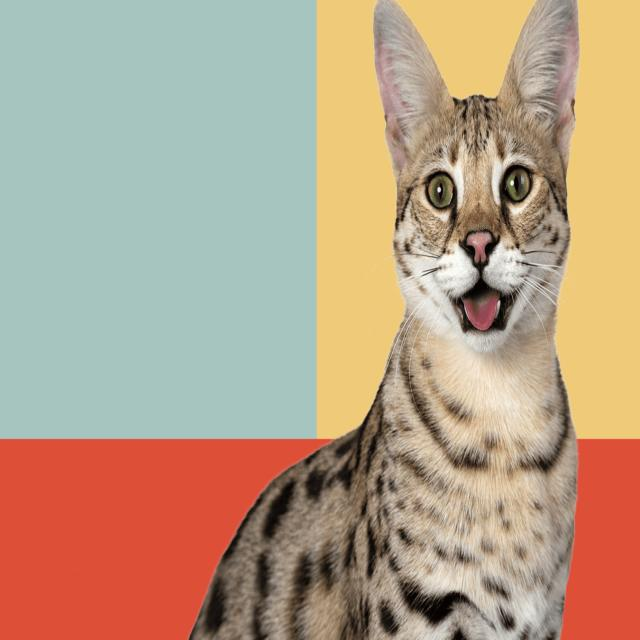Savannah: (171, 0, 584, 640)
